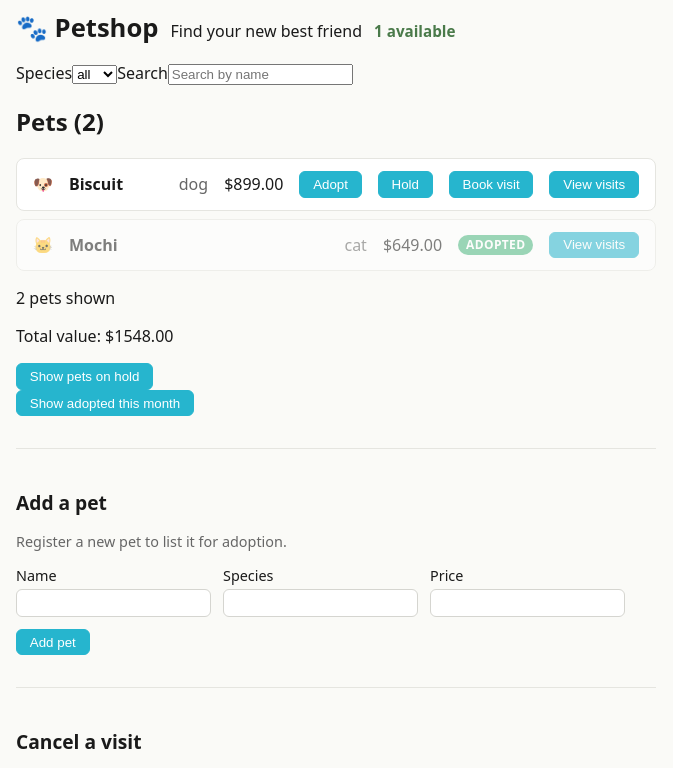
Scenario: App › surfaces the cap-exceeded error (including the cap value) from the booking form
This screenshot has width=673, height=768.
Expected: the text "Biscuit" is shown, [69, 173, 123, 195]
Click the button "Book visit" at (491, 184), box [449, 171, 533, 198]
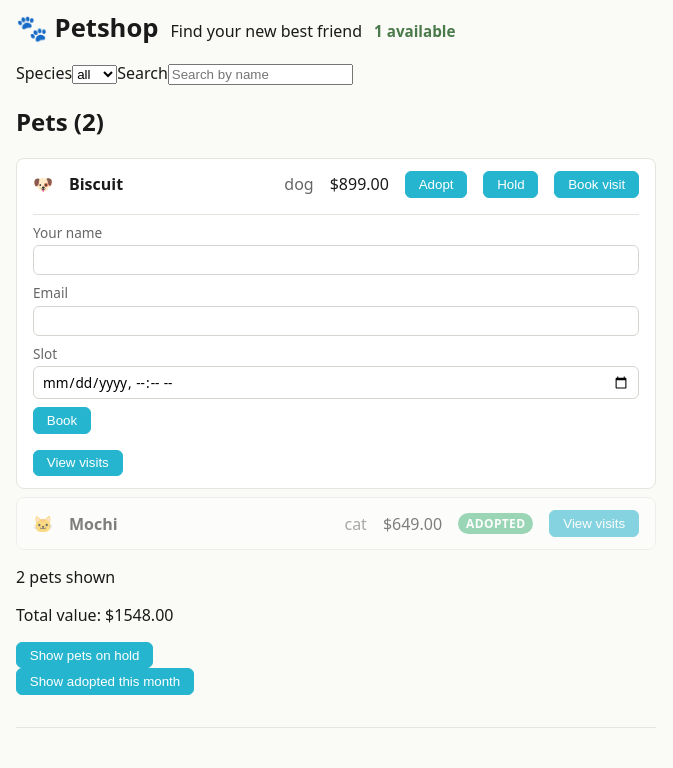
Type "Grace Hopper" into the field labelled "Your name" at (336, 260), box [33, 245, 639, 276]
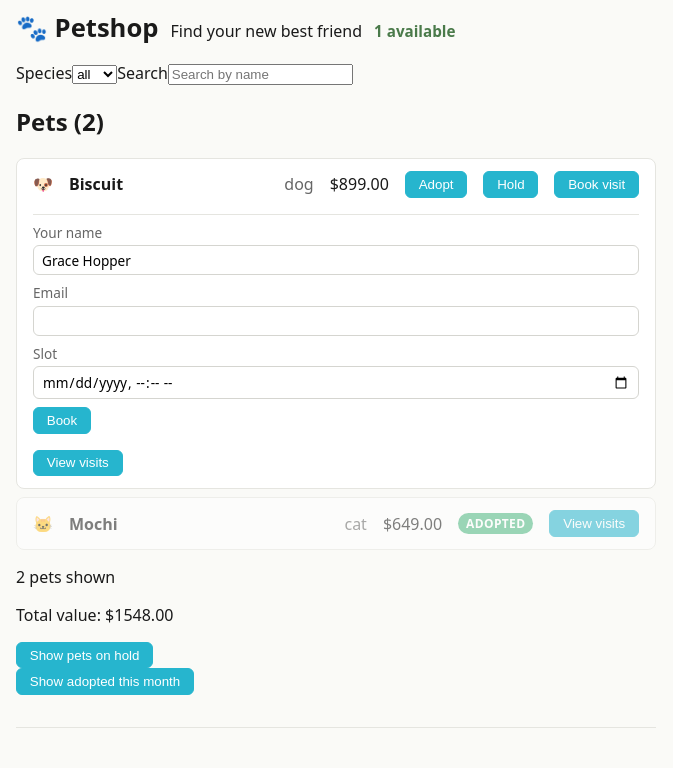
Type "grace@example.com" into the field labelled "Email" at (336, 321), box [33, 306, 639, 336]
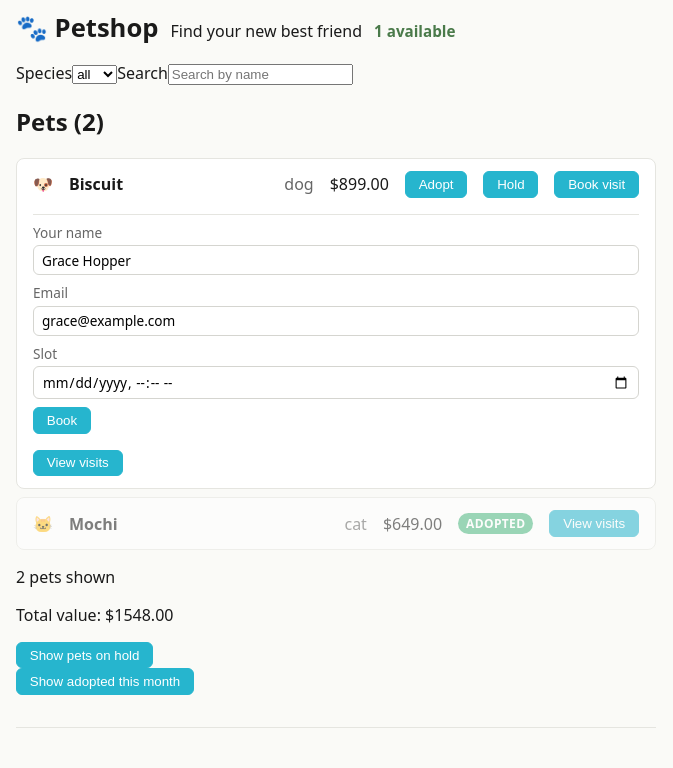
Type "2026-08-01T15:30" into the field labelled "Slot" at (336, 383), box [33, 366, 639, 399]
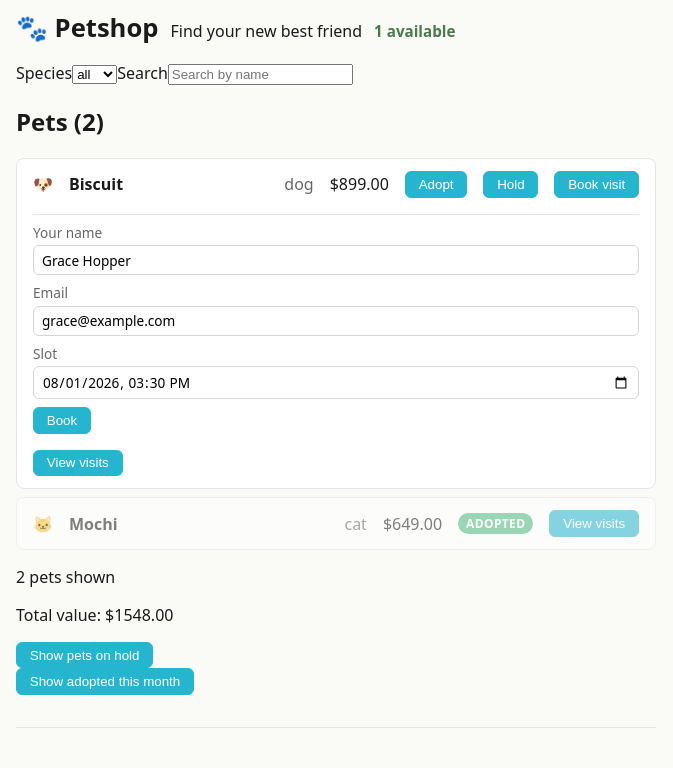
Click the button "Book" at (62, 420), box [33, 407, 91, 434]
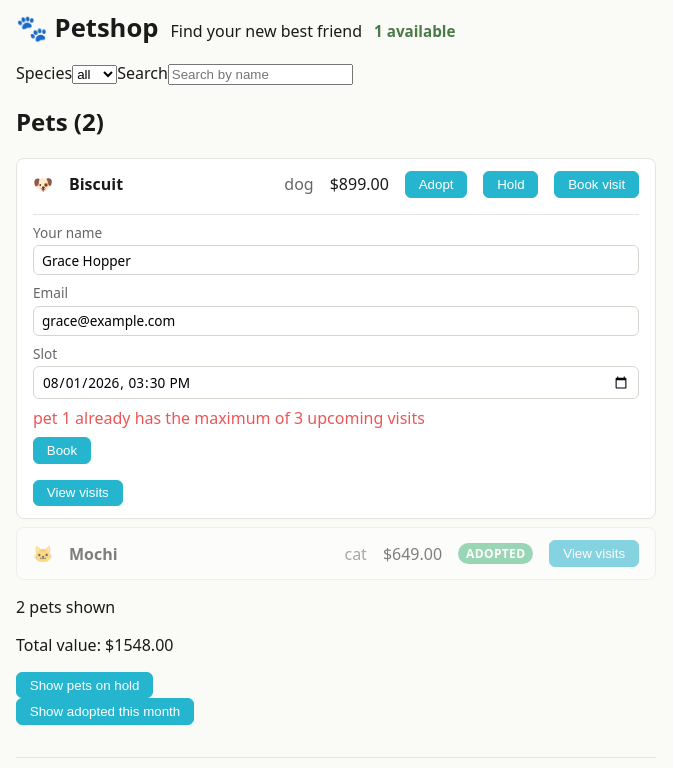
Expected: the text "pet 1 already has the maximum of 3 upcoming visits" is shown, [33, 407, 425, 429]
